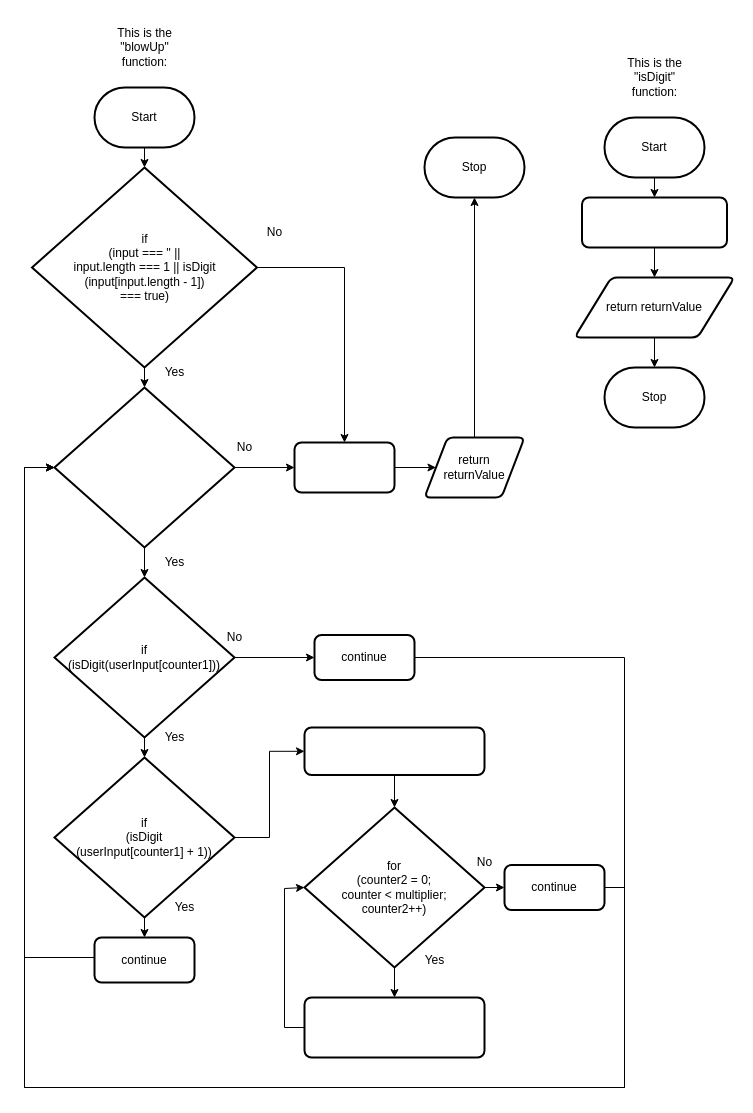
The diagram is 753 pixels wide and 1113 high, and some of its shapes have lost their labels. Here are the shapes that lost their labels. From the top down, the centre of each, then its label:
At (654,222): "returnValue = !isNaN(parseInt(char))".
At (144,467): "for (counter1 = 0; counter < userInput.length; counter1++)".
At (344,467): "returnValue = newString".
At (394,751): "multiplier = parseInt(userInput[counter1])".
At (394,1027): "newString += input[counter1 +1]".
